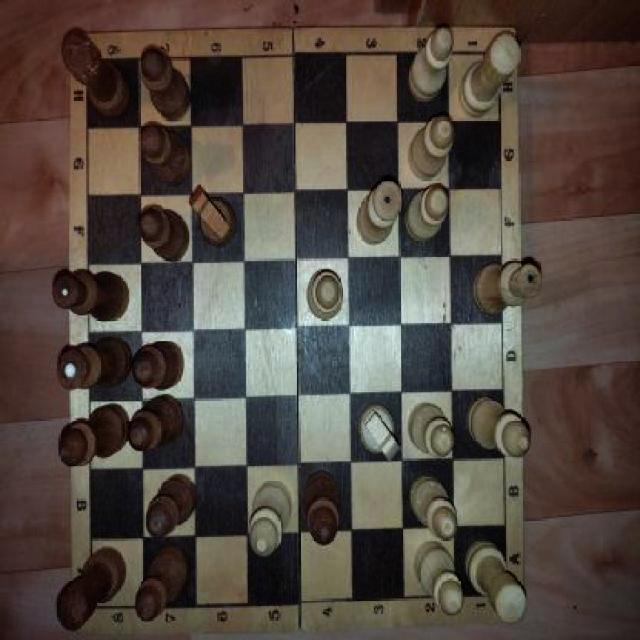chess-table-corners: (70, 574, 118, 637), (480, 560, 526, 625), (67, 33, 113, 95), (473, 29, 519, 85)
